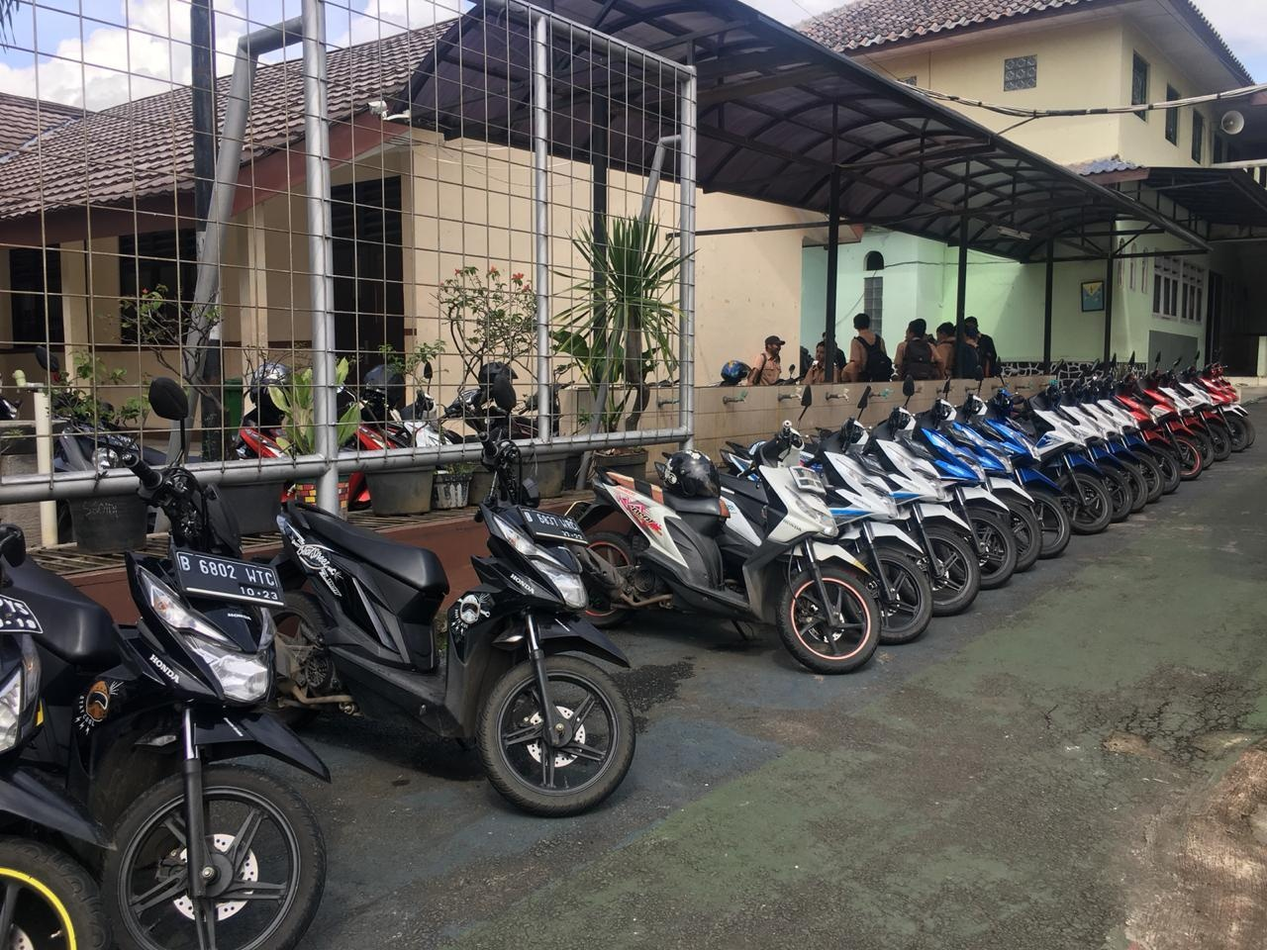plate: (178, 549, 294, 606)
